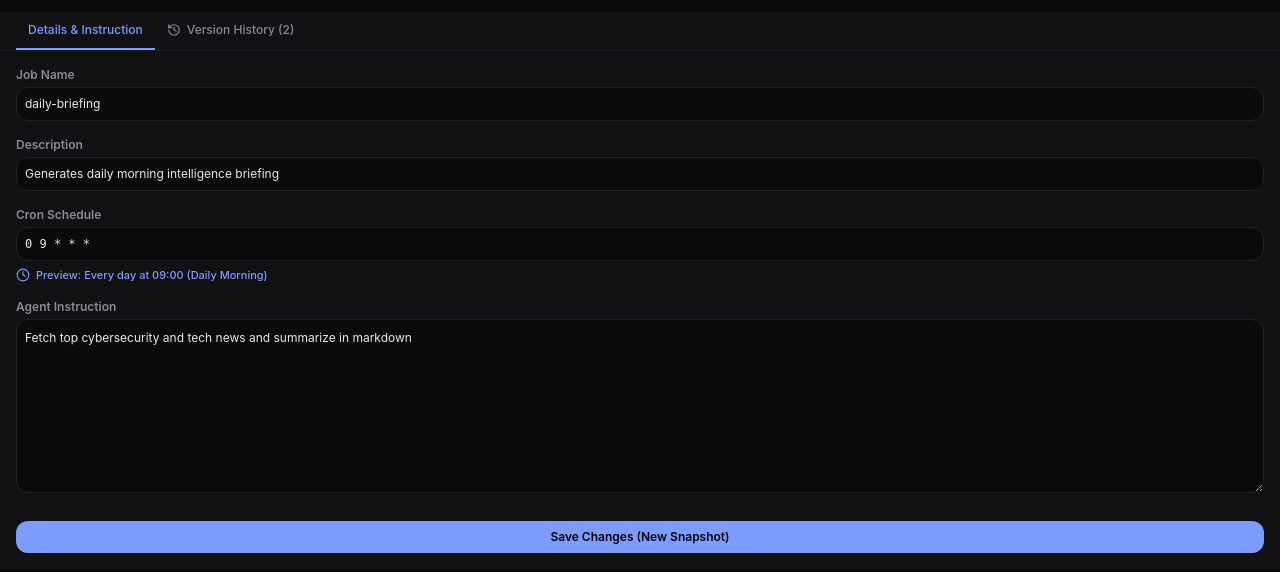
Test: JobEditor Component › shows validation error when cron expression is invalid
Replace the text in the field showing "0 9 * * *" below "Cron Schedule" with "0 9 *". click: (640, 244)
box: 16,227 -> 1264,261
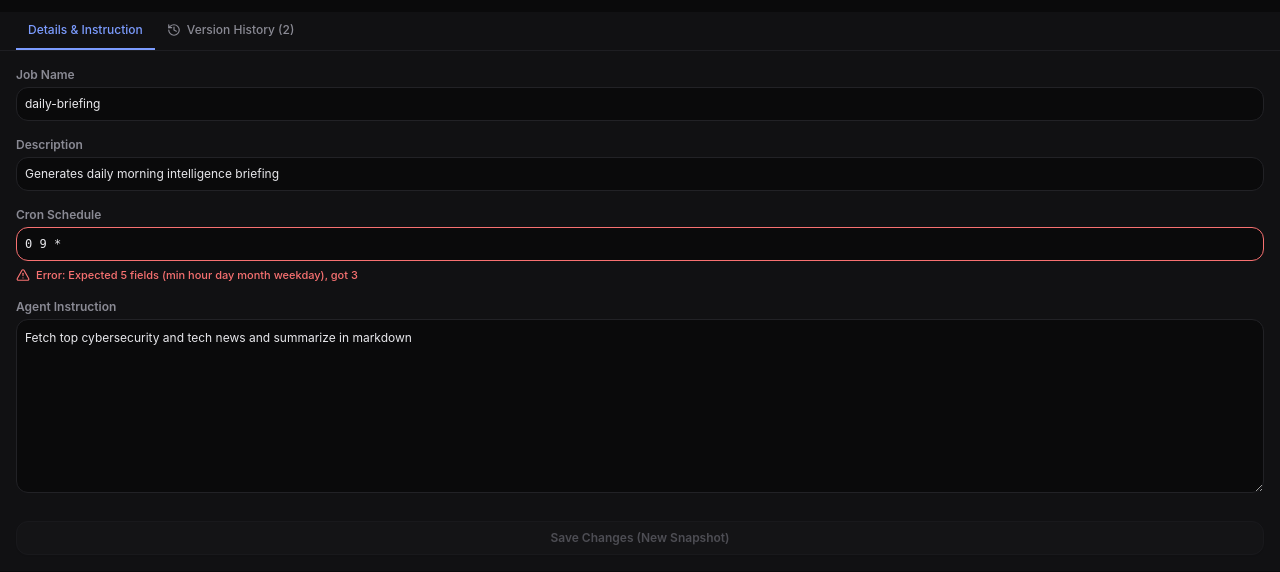
Result: the text "Error: Expected 5 fields (min hour day month weekday), got 3" is shown at 36,267 -> 358,283
Result: the button "Save Changes (New Snapshot)" is disabled at 16,521 -> 1264,555
